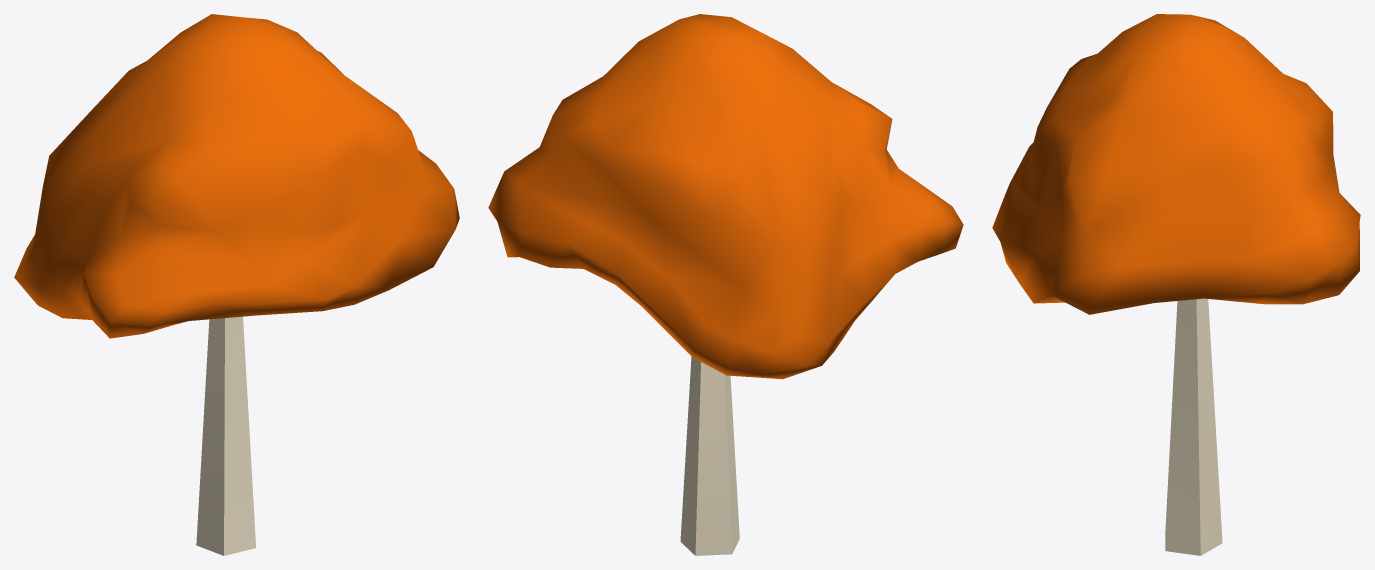
Rendered from Tree_20_Fall.fbx.
3 views of the same model, side by side, from view 1: azimuth 30°, elevation 25°; view 2: azimuth 150°, elevation 25°; view 3: azimuth 270°, elevation 25° (orthographic).
Parts seen in each view (by area): view 1: Tree_20_p2_Fall, Tree_20_p1_Fall; view 2: Tree_20_p2_Fall, Tree_20_p1_Fall; view 3: Tree_20_p2_Fall, Tree_20_p1_Fall.
Part boxes in pixels (x1,y1,x2,y2): Tree_20_p2_Fall: [14, 14, 459, 338]; Tree_20_p1_Fall: [196, 316, 255, 555]; Tree_20_p2_Fall: [488, 14, 963, 379]; Tree_20_p1_Fall: [680, 356, 739, 555]; Tree_20_p2_Fall: [992, 14, 1360, 314]; Tree_20_p1_Fall: [1165, 298, 1222, 555].
Bounding box in the file's own units: 331 × 446 × 285.
